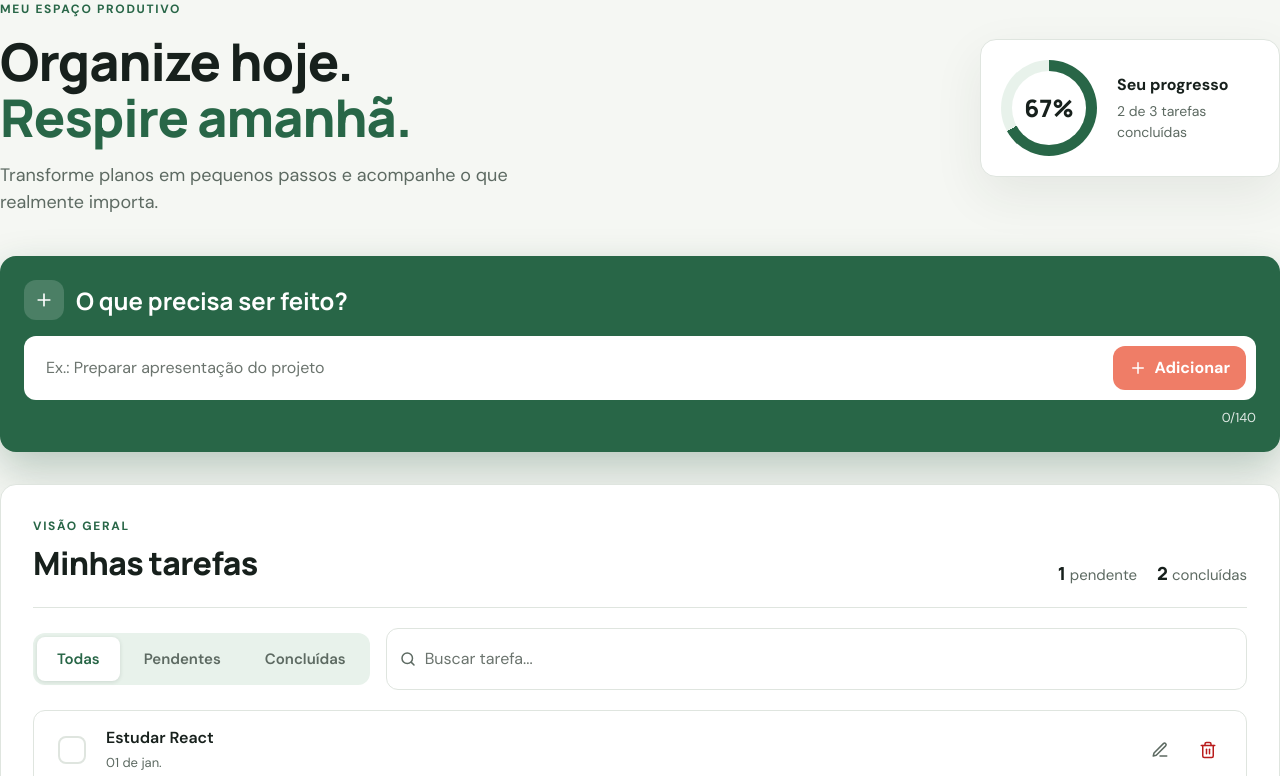
Test: TasksPage — busca sem resultado › exibe o estado de busca sem resultado ao pesquisar um texto inexistente
The image size is (1280, 776).
In the search field: point(829, 659) [425, 637, 1234, 681], type "xyz"
(page scrolled)
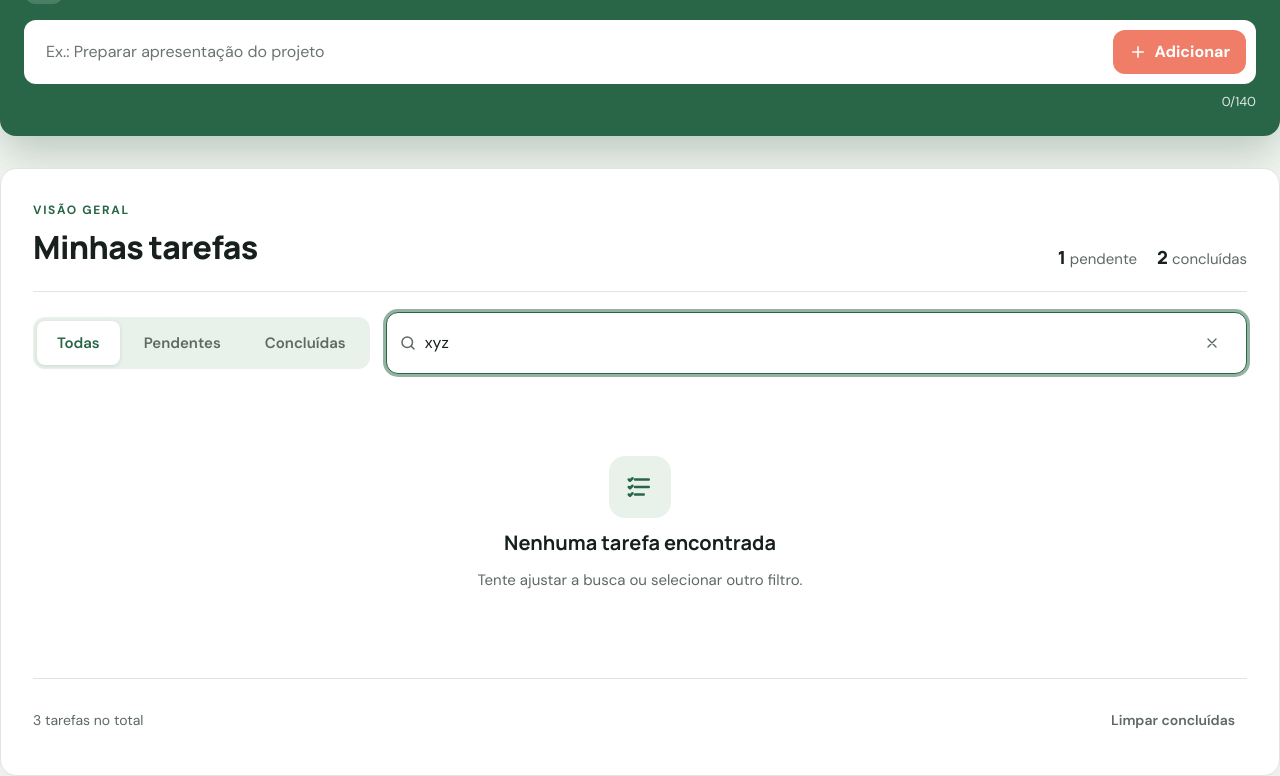
expect the heading "Nenhuma tarefa encontrada" is shown: met, box [504, 530, 776, 556]
expect the text "Tente ajustar a busca ou selecionar outro filtro." is shown: met, box [478, 568, 803, 592]
